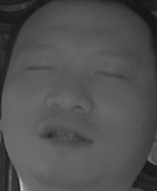blink: (93, 59, 128, 86), (24, 52, 59, 78)
mouth: (33, 115, 96, 154)
